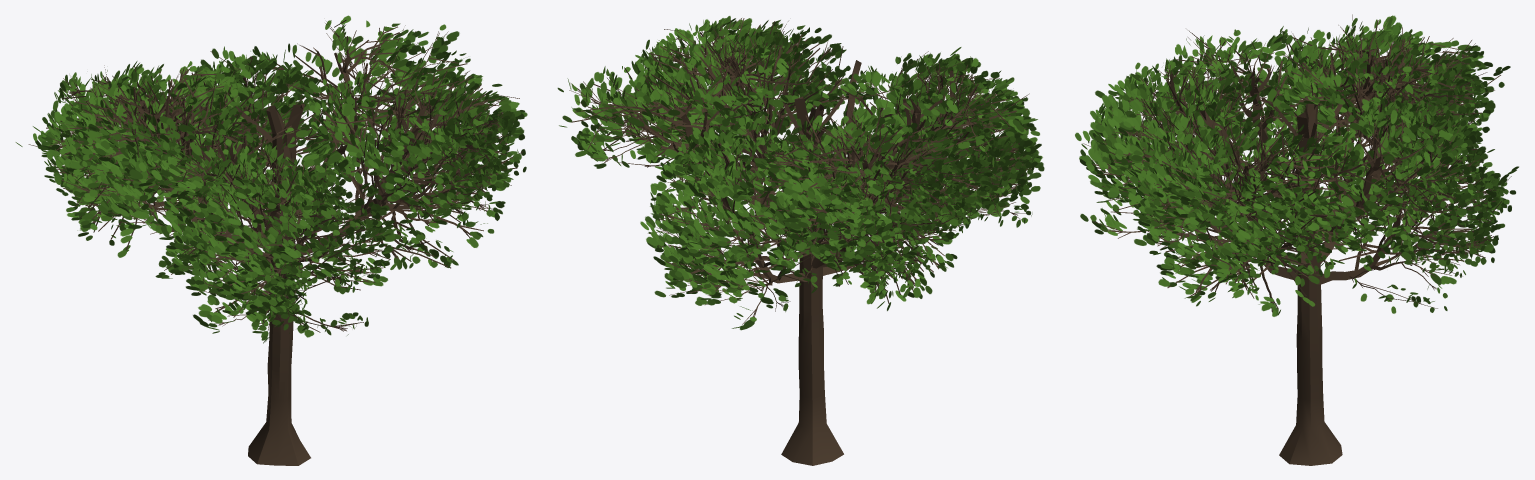
The picture shows the model from 3 angles, left to right: view 1: azimuth 30°, elevation 25°; view 2: azimuth 150°, elevation 25°; view 3: azimuth 270°, elevation 25°; orthographic projection.
Parts seen in each view (by area): view 1: oak 01.001_trunk_Mat.001_0.083; view 2: oak 01.001_trunk_Mat.001_0.083; view 3: oak 01.001_trunk_Mat.001_0.083.
Boxes of the visible parts, box(x1,y1,x2,y2) form: oak 01.001_trunk_Mat.001_0.083: box(15, 15, 527, 465); oak 01.001_trunk_Mat.001_0.083: box(557, 16, 1044, 465); oak 01.001_trunk_Mat.001_0.083: box(1075, 14, 1518, 465).
Size of the model in its own units: 4.84 by 3.99 by 4.4.
Materials: 2 (1 with a texture image).
